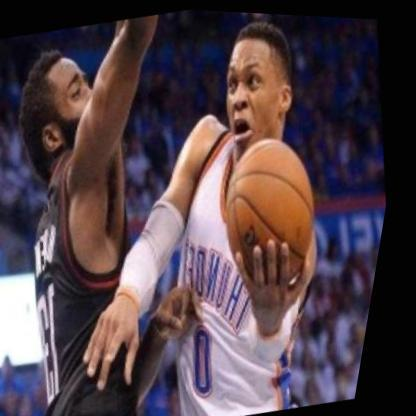basketball: (197, 124, 350, 299)
